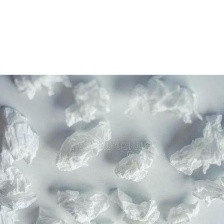tissue: (0, 102, 43, 223), (118, 75, 206, 128), (163, 109, 224, 179), (51, 115, 115, 175), (60, 75, 113, 131), (49, 183, 115, 223), (102, 184, 163, 223), (109, 139, 160, 184), (7, 75, 59, 104), (186, 175, 224, 211), (160, 197, 203, 223)
